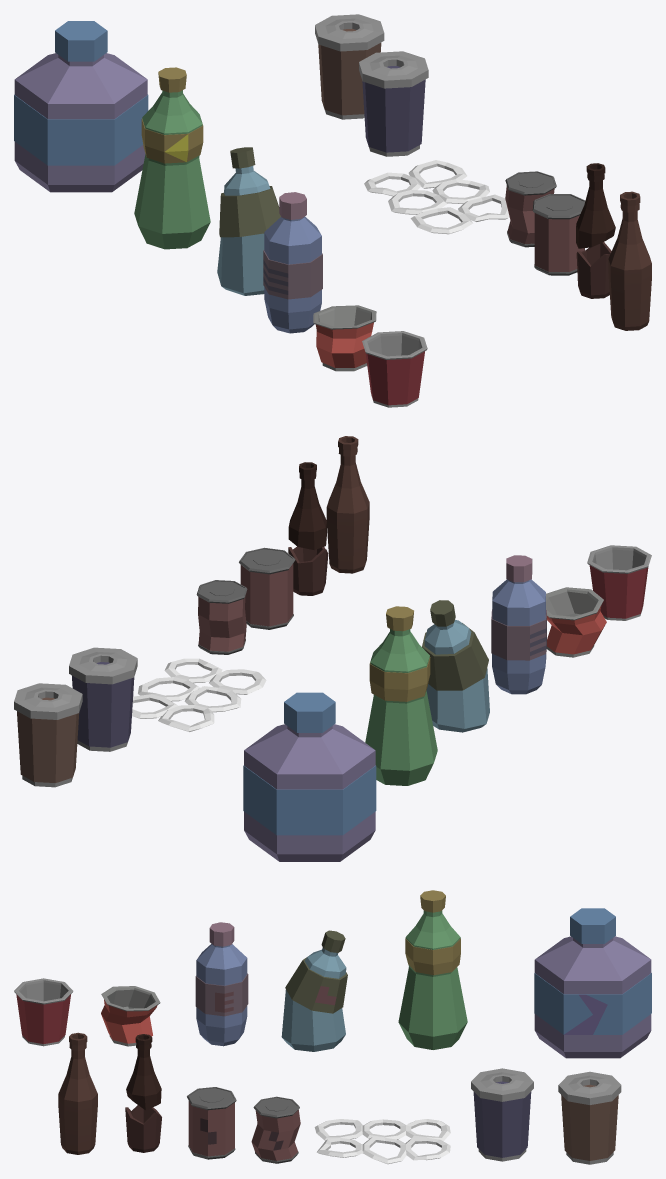
The model's file is Colored_Trash_Models_collected.fbx.
The picture shows the model from 3 angles, top to bottom: view 1: azimuth 30°, elevation 25°; view 2: azimuth 150°, elevation 25°; view 3: azimuth 270°, elevation 25°; orthographic projection. The views are drawn at different scales.
Visible parts, largest first — view 1: Bottle.002, Bottle.001, Label.002, Cylinder, MainPart, Cup, MiddlePart(Color), Bottle, Cup.001, MiddlePart(Color).001, Label.001, Label.003 (+19 smaller); view 2: Bottle.002, Bottle.001, Label.002, Cylinder, MainPart, Bottle, MiddlePart(Color).001, Cup, MiddlePart(Color), Cup.001, Label.003, Label.001 (+18 smaller); view 3: Bottle.002, Bottle.001, Label.002, Cylinder, Bottle, MainPart, MiddlePart(Color), MiddlePart(Color).001, Cup, Cup.001, Label.003, Label.001 (+20 smaller).
Part boxes in pixels (x1,y1,x2,y2): Bottle.002: [14, 53, 147, 192]; Bottle.001: [134, 90, 210, 249]; Label.002: [14, 94, 148, 165]; Cylinder: [608, 191, 651, 330]; MainPart: [264, 216, 321, 333]; Cup: [362, 331, 427, 405]; MiddlePart(Color): [362, 66, 425, 152]; Bottle: [217, 166, 270, 295]; Cup.001: [313, 305, 376, 367]; MiddlePart(Color).001: [318, 28, 381, 115]; Label.001: [219, 186, 280, 237]; Label.003: [534, 213, 584, 271]; Bottle.002: [244, 724, 375, 861]; Bottle.001: [365, 629, 437, 785]; Label.002: [243, 765, 376, 835]; Cylinder: [326, 436, 369, 573]; MainPart: [492, 579, 546, 694]; Bottle: [424, 620, 489, 732]; MiddlePart(Color).001: [17, 697, 79, 782]; Cup: [587, 545, 651, 618]; MiddlePart(Color): [72, 662, 134, 747]; Cup.001: [546, 587, 606, 654]; Label.003: [240, 563, 293, 626]; Label.001: [422, 623, 488, 690]; Bottle.002: [534, 936, 651, 1058]; Bottle.001: [398, 910, 467, 1049]; Label.002: [534, 973, 651, 1034]; Cylinder: [58, 1032, 97, 1154]; Bottle: [281, 947, 346, 1051]; MainPart: [196, 943, 247, 1046]; MiddlePart(Color): [473, 1081, 531, 1157]; MiddlePart(Color).001: [561, 1084, 618, 1160]; Cup: [14, 978, 73, 1044]; Cup.001: [101, 986, 160, 1043]; Label.003: [188, 1101, 234, 1156]; Label.001: [285, 957, 347, 1013].
Size of the model in its own units: 376 by 172 by 681.
